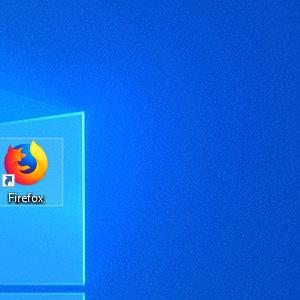firefox: (1, 139, 49, 188)
